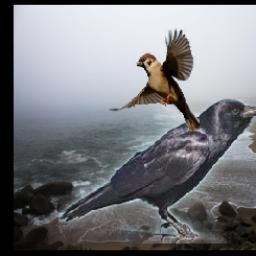Crow: (59, 100, 256, 244)
Sparrow: (108, 28, 201, 132)
